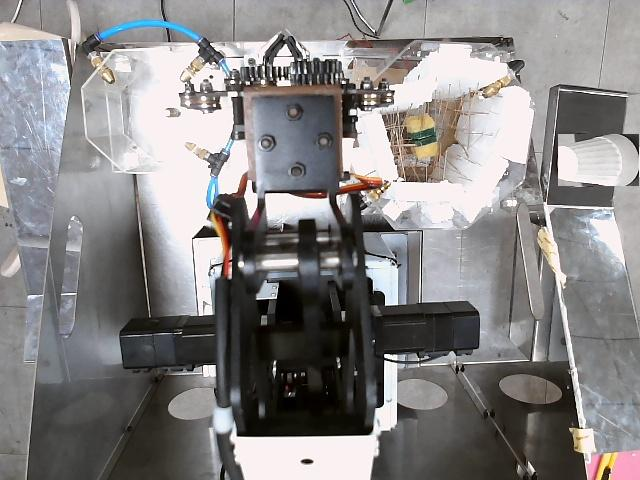cup: (558, 134, 639, 186)
